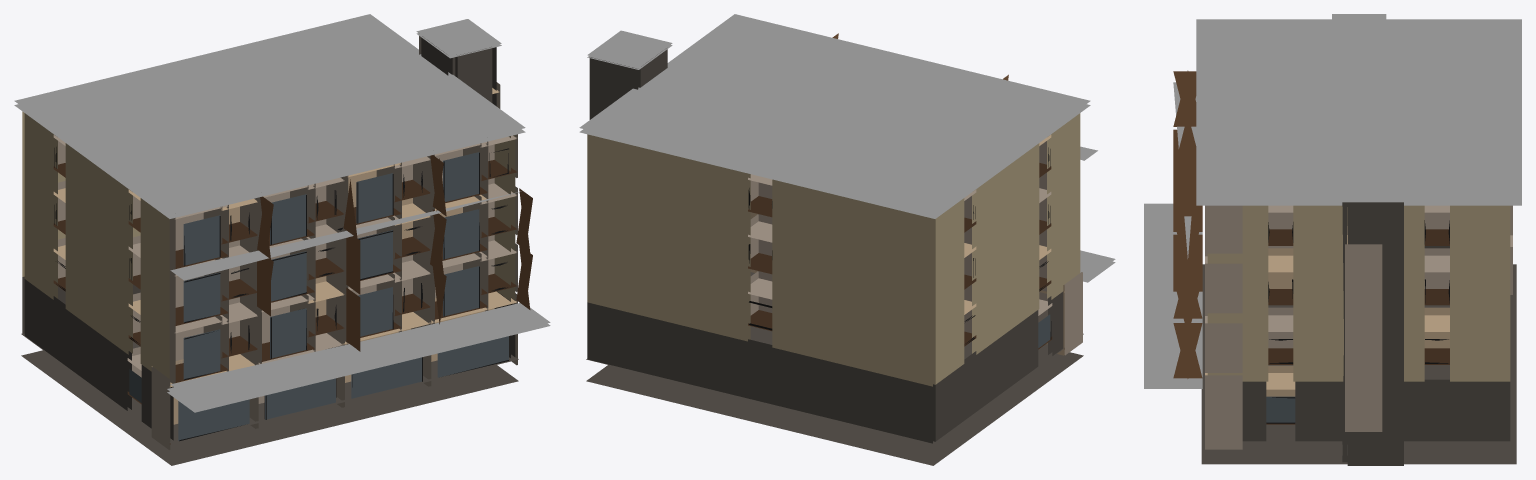
The model's file is apartment_20x15_4_far.glb.
The picture shows the model from 3 angles, left to right: view 1: azimuth 30°, elevation 25°; view 2: azimuth 150°, elevation 25°; view 3: azimuth 270°, elevation 25°; orthographic projection. The views are drawn at different scales.
Visible parts, largest first — view 1: apartment_20x15_4; view 2: apartment_20x15_4; view 3: apartment_20x15_4.
Part boxes in pixels (x1,y1,x2,y2): apartment_20x15_4: (14,14,550,465); apartment_20x15_4: (579,14,1115,465); apartment_20x15_4: (1144,14,1521,465).
Size of the model in its own units: 23.22 by 16.05 by 18.1.
